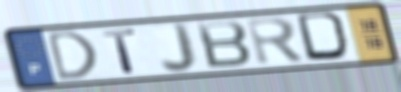B: (193, 19, 254, 70)
D: (293, 10, 355, 63), (45, 28, 100, 84)
J: (158, 20, 200, 75)
R: (243, 15, 308, 68)
T: (100, 27, 140, 75)
